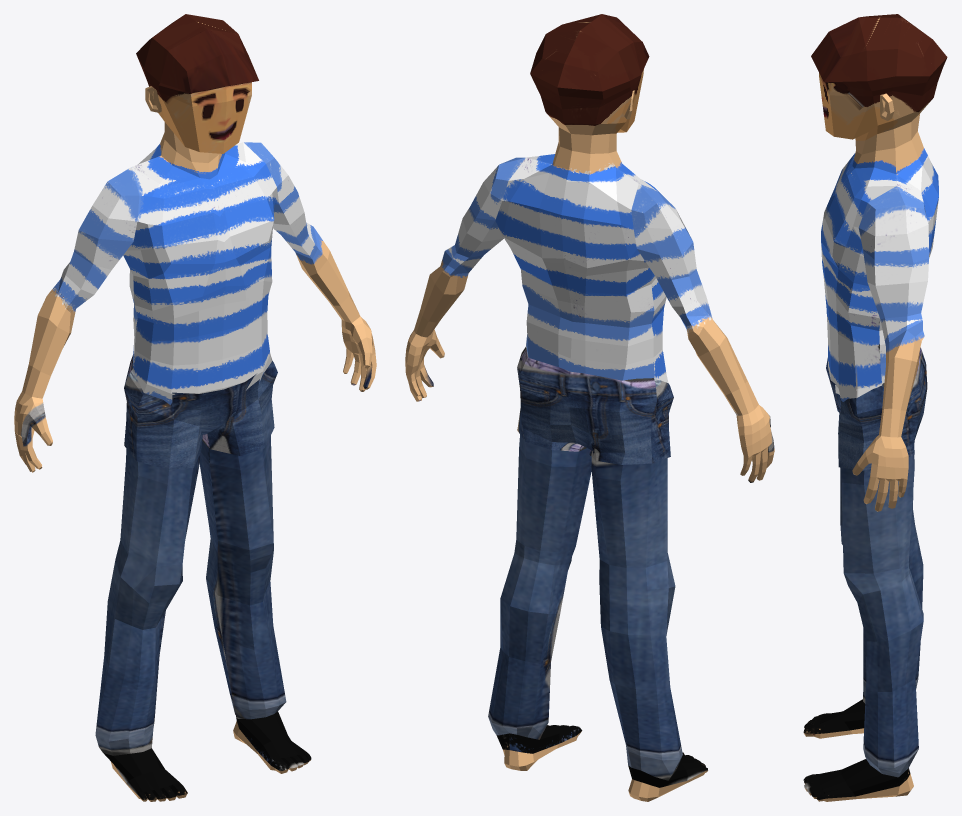
Rendered from niño.fbx.
The picture shows the model from 3 angles, left to right: view 1: azimuth 30°, elevation 25°; view 2: azimuth 150°, elevation 25°; view 3: azimuth 270°, elevation 25°; orthographic projection.
Visible parts, largest first — view 1: Low poly man.001; view 2: Low poly man.001; view 3: Low poly man.001.
Boxes of the visible parts, box(x1,y1,x2,y2) form: Low poly man.001: box(14, 14, 376, 801); Low poly man.001: box(405, 14, 774, 801); Low poly man.001: box(803, 14, 947, 801).
Size of the model in its own units: 67.14 by 134 by 23.51.
